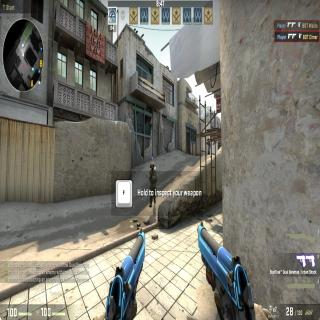CT-Body: (148, 162, 156, 208)
CT-Head: (150, 162, 154, 170)
